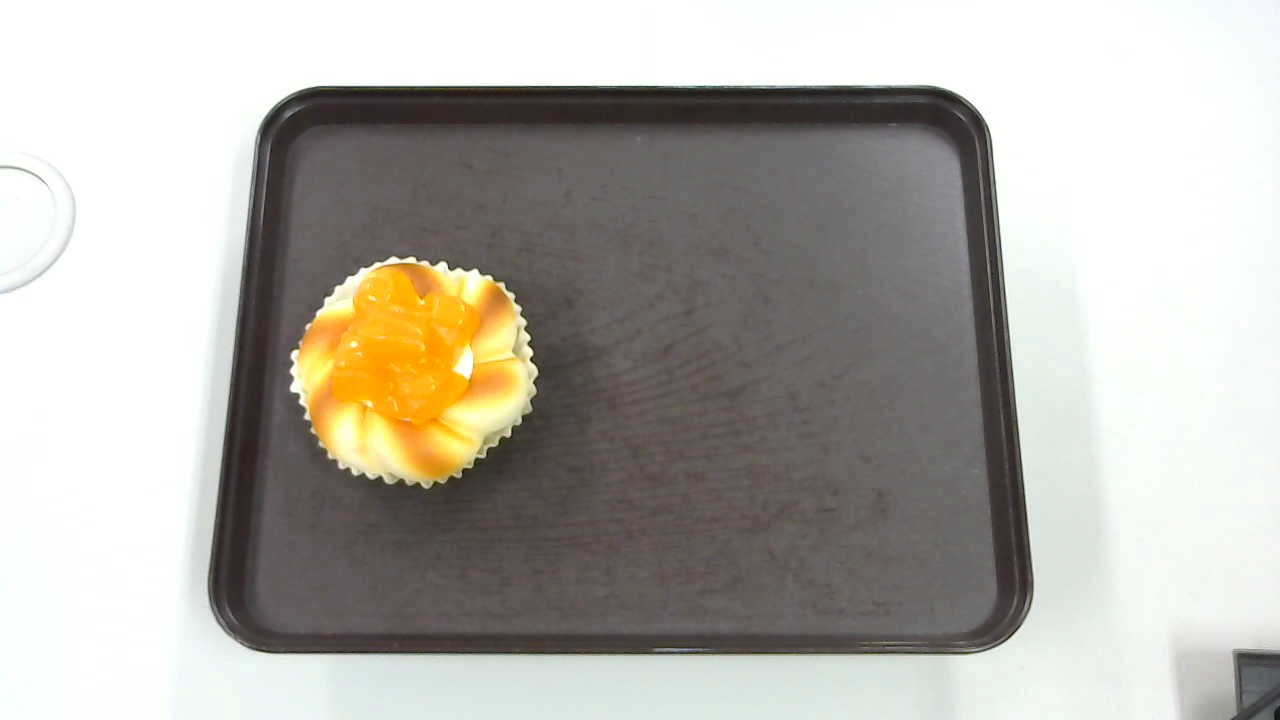mango tart: (289, 256, 537, 488)
